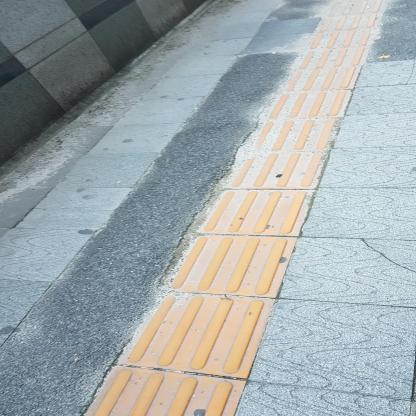podotacti: (63, 190, 319, 416), (215, 0, 392, 188)
